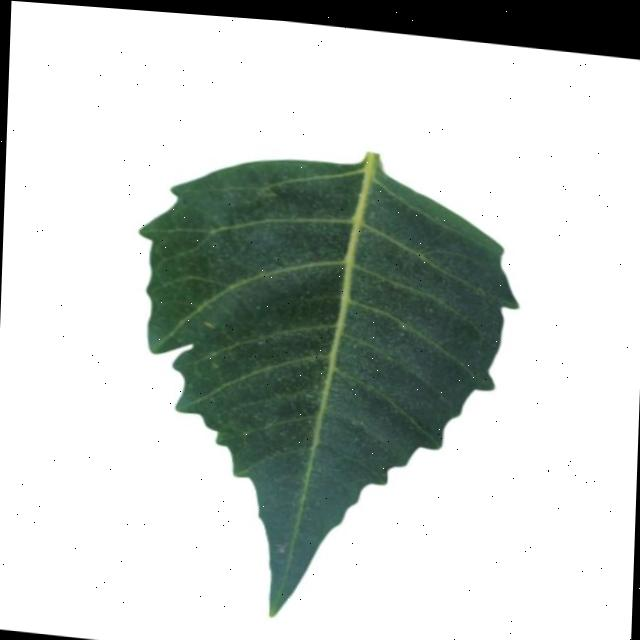Wet: (0, 1, 640, 640), (139, 143, 521, 613)
